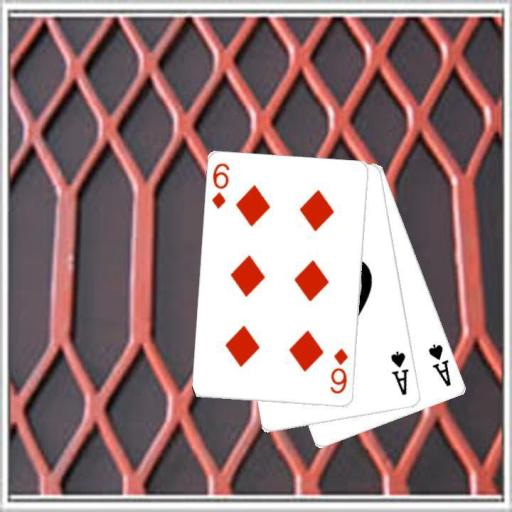card-corner: (425, 342, 453, 388), (327, 346, 350, 396), (388, 348, 411, 397), (209, 160, 231, 210)
